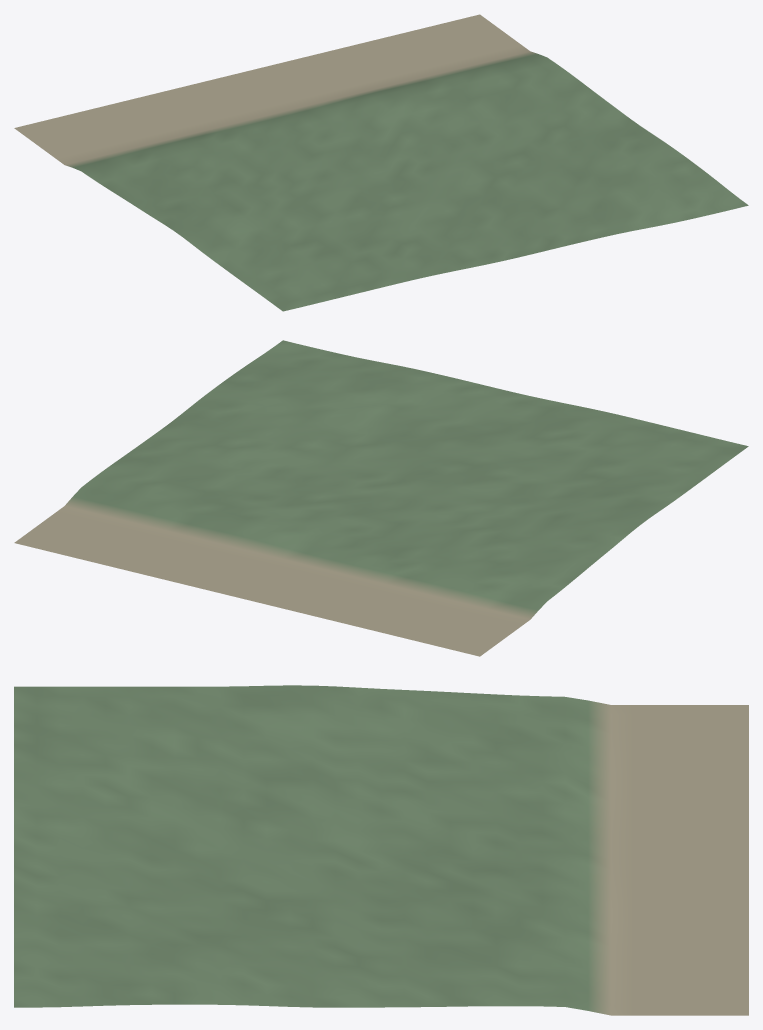
3 renders of one model, top to bottom at view 1: azimuth 30°, elevation 25°; view 2: azimuth 150°, elevation 25°; view 3: azimuth 270°, elevation 25°, orthographic. The views are drawn at different scales.
Parts seen in each view (by area): view 1: Terrain-col; view 2: Terrain-col; view 3: Terrain-col.
Boxes of the visible parts, <box> form: Terrain-col: <box>14,14,748,311</box>; Terrain-col: <box>14,340,748,656</box>; Terrain-col: <box>14,685,748,1015</box>.
Bounding box in the file's own units: 256 × 7.62 × 256.
